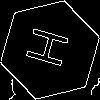H: (25, 25, 78, 72)
